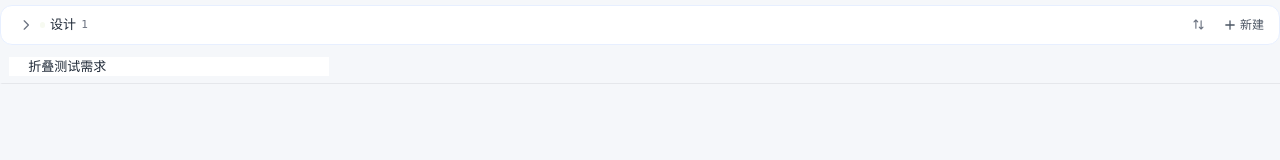
Test: StageSection › 点击折叠按钮后不再渲染需求行
This screenshot has width=1280, height=160.
Expected: the text "折叠测试需求" is shown, [28,57,106,76]
Click the text "设计". click: coordinates (63, 25)
box: [50,15,76,35]
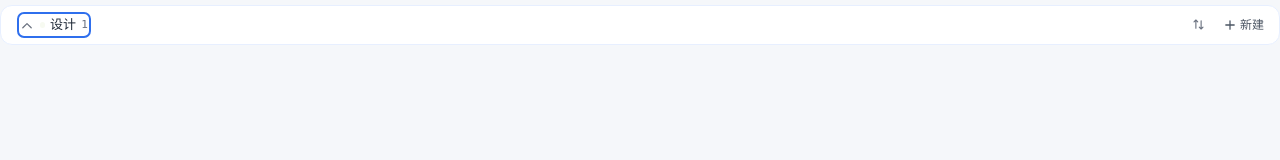
Now the button "折叠测试需求" is gone
